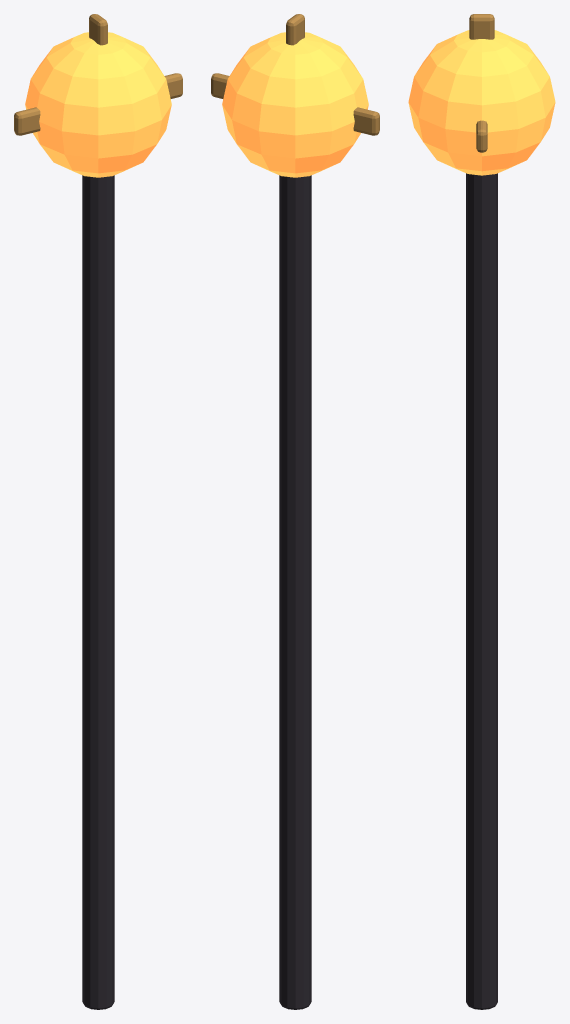
Rendered from mender_staff.glb.
3 views of the same model, side by side, from view 1: azimuth 30°, elevation 25°; view 2: azimuth 150°, elevation 25°; view 3: azimuth 270°, elevation 25° (orthographic).
Visible parts, largest first — view 1: MenderStaff_Shaft, MenderStaff_Core, MenderStaff_Halo, MenderStaff_Halo.001; view 2: MenderStaff_Shaft, MenderStaff_Core, MenderStaff_Halo, MenderStaff_Halo.001; view 3: MenderStaff_Shaft, MenderStaff_Core, MenderStaff_Halo.001, MenderStaff_Halo.
Part boxes in pixels (x1,y1,x2,y2): MenderStaff_Shaft: [82, 175, 114, 1009]; MenderStaff_Core: [25, 32, 171, 177]; MenderStaff_Halo: [14, 73, 182, 135]; MenderStaff_Halo.001: [89, 14, 107, 45]; MenderStaff_Shaft: [279, 175, 311, 1009]; MenderStaff_Core: [222, 32, 368, 177]; MenderStaff_Halo: [211, 73, 379, 135]; MenderStaff_Halo.001: [286, 14, 304, 45]; MenderStaff_Shaft: [466, 173, 497, 1009]; MenderStaff_Core: [408, 30, 555, 175]; MenderStaff_Halo.001: [469, 14, 494, 39]; MenderStaff_Halo: [476, 120, 487, 152].
Size of the model in its own units: 0.42 by 2.37 by 0.32.
